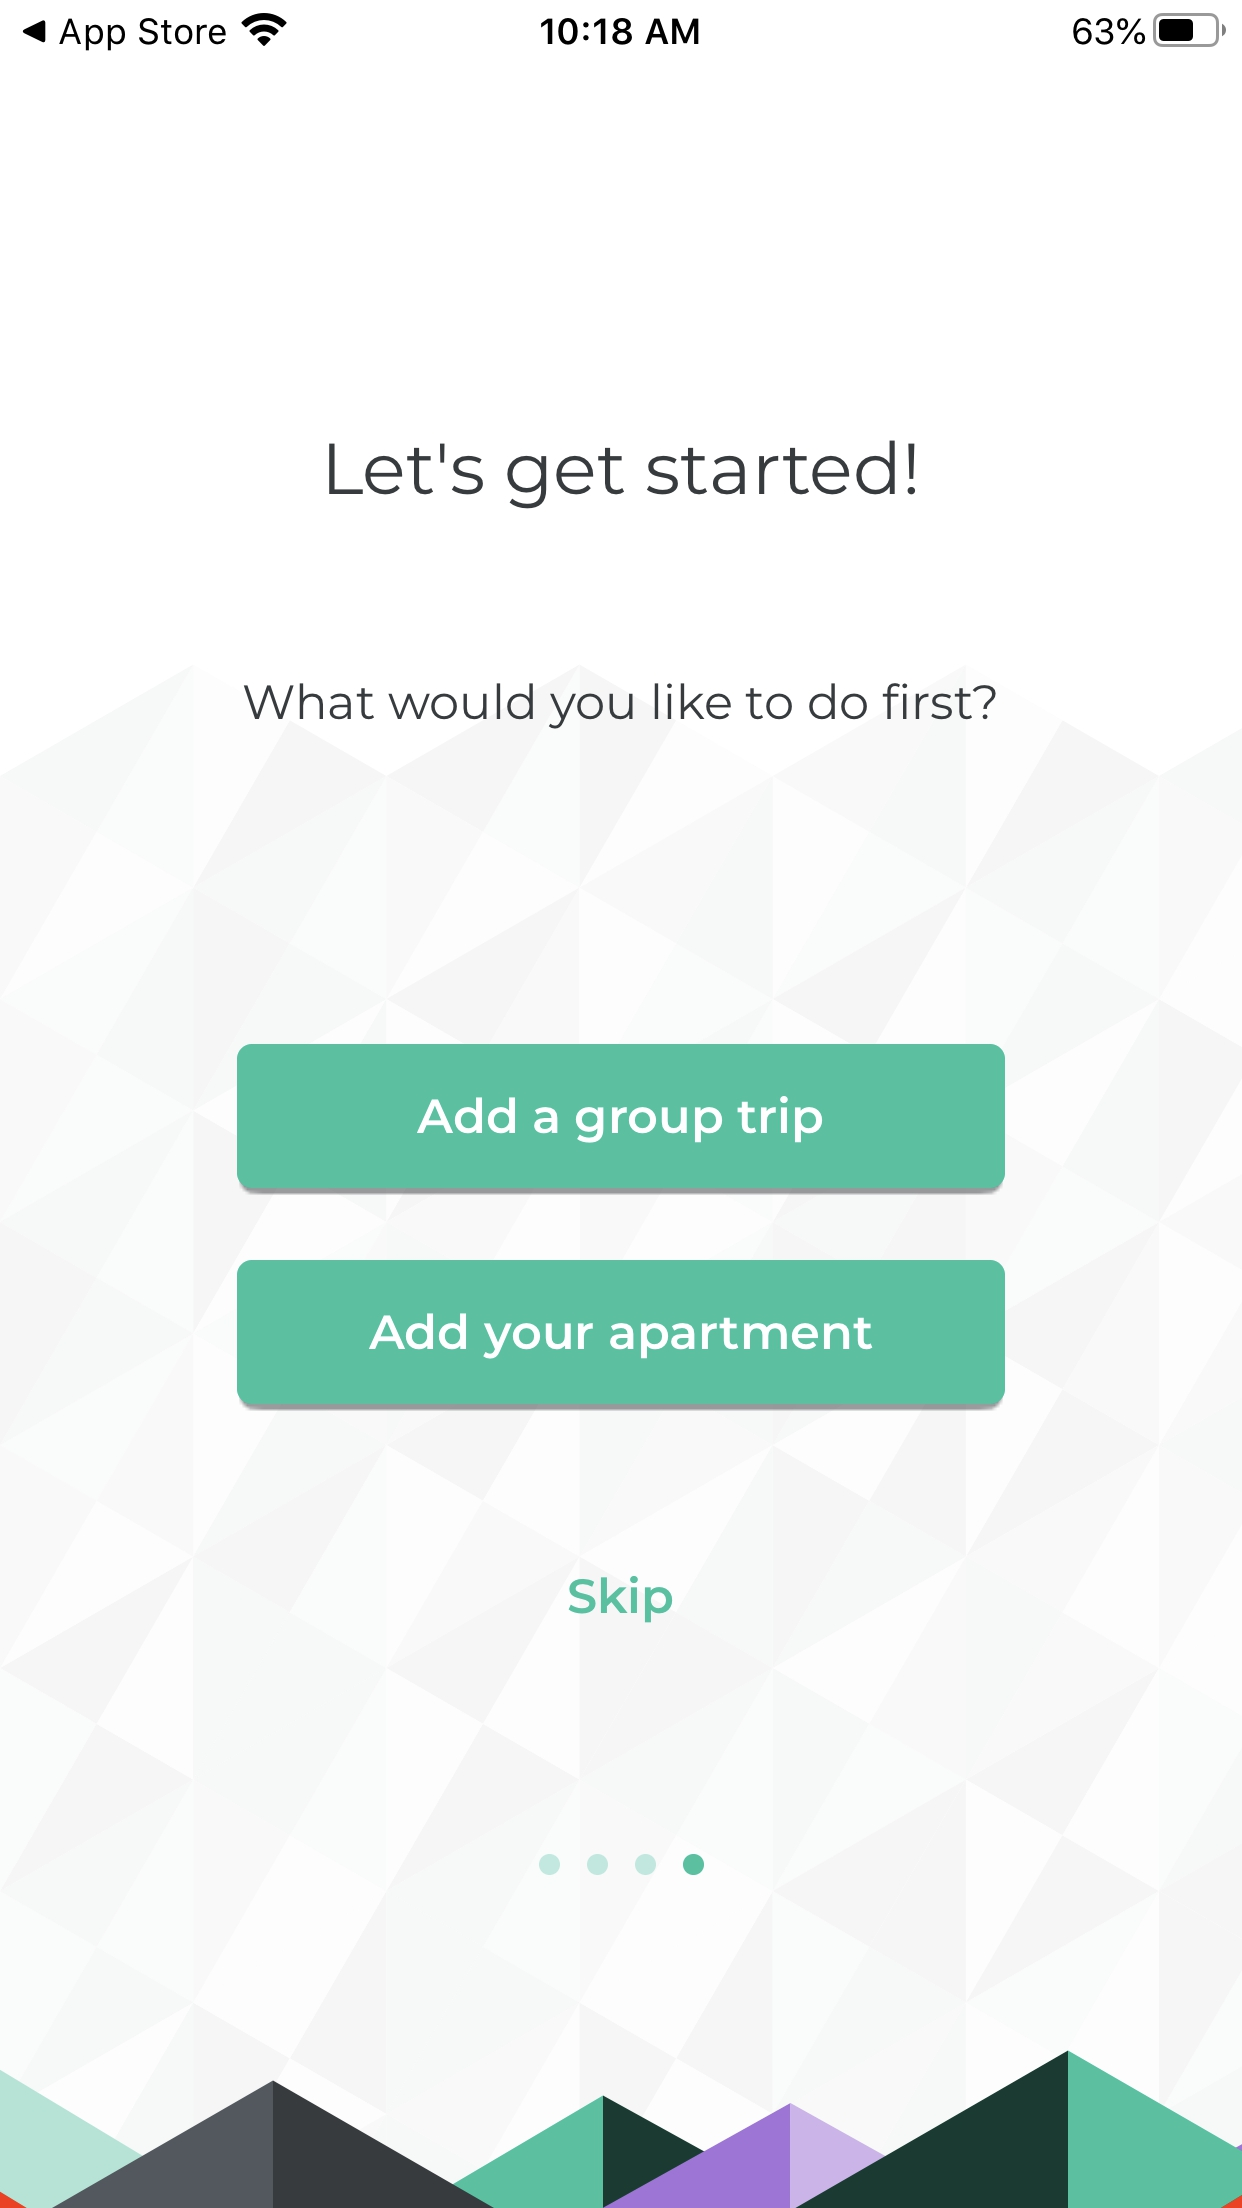Image: (2, 2047, 1240, 2208)
PageIndicator: (538, 1855, 704, 1876)
Text: (329, 440, 914, 510), (243, 682, 996, 729), (569, 1576, 673, 1624)
TextButton: (237, 1043, 1005, 1195), (237, 1260, 1005, 1410)
UpperTaskBar: (2, 2, 1242, 52)
